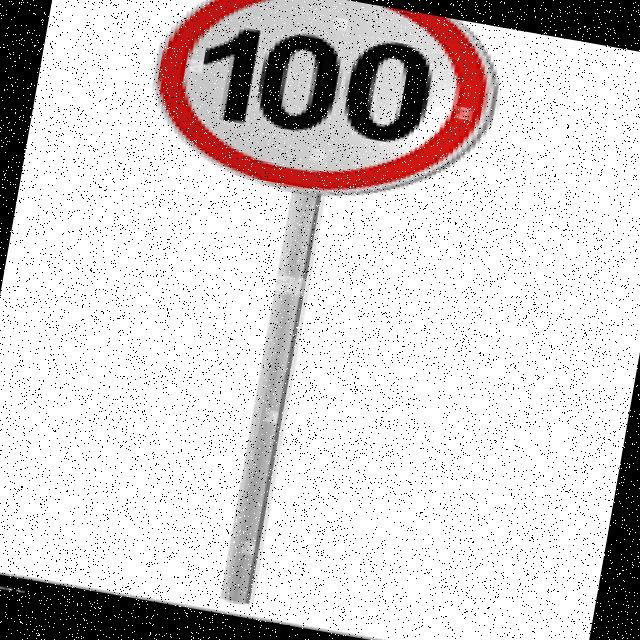speed_limit_100: (116, 0, 541, 230)
